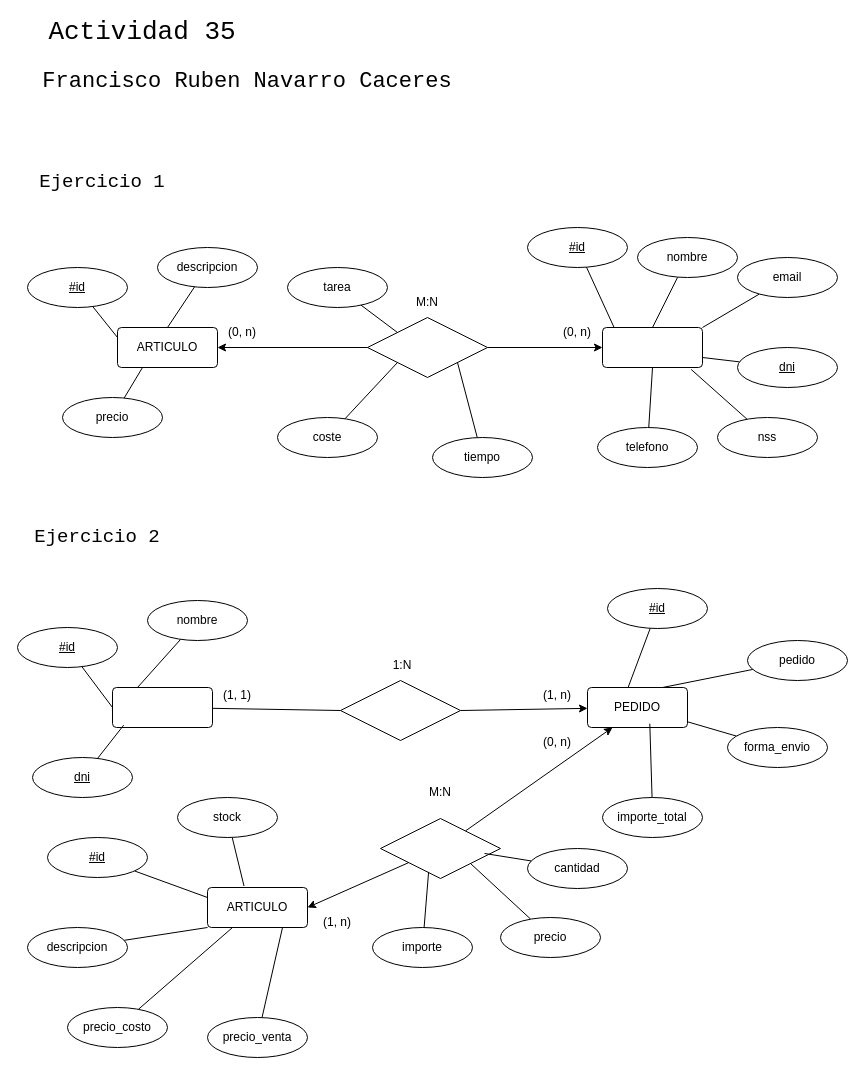
This 865x1075 diagram has some shape labels left out. The box of each missing label's shape, as (x1, y1, x2, y2) in pixels:
CLIENTE: (112, 686, 212, 728)
EMPLEADO: (602, 326, 702, 368)
fabrica: (366, 316, 488, 378)
incluye: (380, 818, 500, 878)
realiza: (340, 680, 460, 740)
